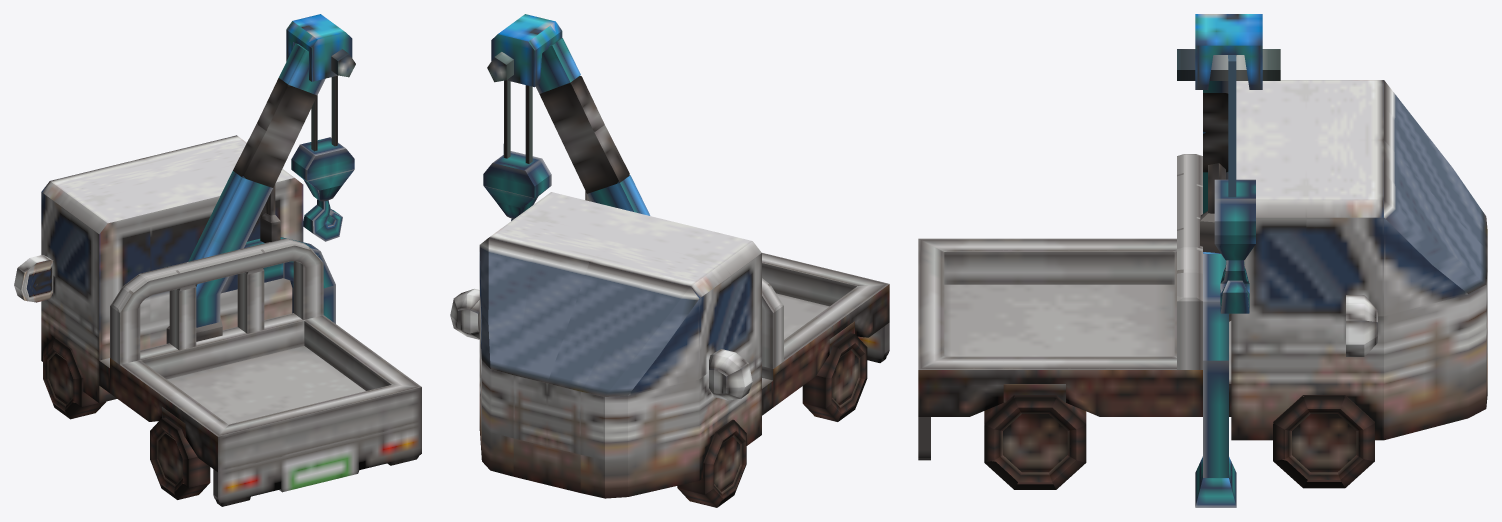
Rendered from Poly_SF_Outside_B_Small_Crane_01.obj.
3 renders of one model, left to right at view 1: azimuth 30°, elevation 25°; view 2: azimuth 150°, elevation 25°; view 3: azimuth 270°, elevation 25°, orthographic. The views are drawn at different scales.
Parts seen in each view (by area): view 1: Cube.002, Cube.011, Cube.010, Cube.003, Cube.004, Cube.012, Cube.001, Cube.007, Cube.009, Cube.005, Cube.006, Cube.008; view 2: Cube.011, Cube.002, Cube.010, Cube.012, Cube.001, Cube.007, Cube.009, Cube.003, Cube.008, Cube.004, Cube.005; view 3: Cube.011, Cube.002, Cube.012, Cube.010, Cube.001, Cube.003, Cube.009, Cube.007, Cube.005, Cube.006, Cube.008.
Part boxes in pixels (x1,y1,x2,y2): Cube.002: [99, 313, 421, 472]; Cube.011: [41, 135, 303, 403]; Cube.010: [188, 43, 335, 327]; Cube.003: [110, 238, 323, 364]; Cube.004: [213, 422, 421, 506]; Cube.012: [14, 255, 105, 419]; Cube.001: [150, 417, 210, 499]; Cube.007: [291, 137, 354, 201]; Cube.009: [286, 14, 352, 81]; Cube.005: [166, 49, 355, 343]; Cube.006: [303, 199, 342, 241]; Cube.008: [311, 75, 337, 151]; Cube.011: [479, 192, 761, 498]; Cube.002: [762, 253, 889, 415]; Cube.010: [536, 38, 650, 215]; Cube.012: [450, 288, 752, 507]; Cube.001: [802, 333, 867, 421]; Cube.007: [483, 151, 551, 219]; Cube.009: [491, 14, 562, 87]; Cube.003: [762, 278, 783, 368]; Cube.008: [503, 80, 532, 163]; Cube.004: [858, 322, 889, 362]; Cube.005: [487, 52, 590, 201]; Cube.011: [1231, 80, 1487, 440]; Cube.002: [918, 238, 1231, 416]; Cube.012: [1273, 295, 1377, 488]; Cube.010: [1195, 81, 1236, 507]; Cube.001: [984, 395, 1086, 489]; Cube.003: [1177, 154, 1202, 369]; Cube.009: [1195, 14, 1262, 89]; Cube.007: [1214, 179, 1255, 260]; Cube.005: [1177, 49, 1280, 321]; Cube.006: [1220, 260, 1249, 313]; Cube.008: [1228, 55, 1236, 197].
Size of the model in its own units: 1.67 by 2.02 by 2.2.
Materials: 1 (1 with a texture image).
